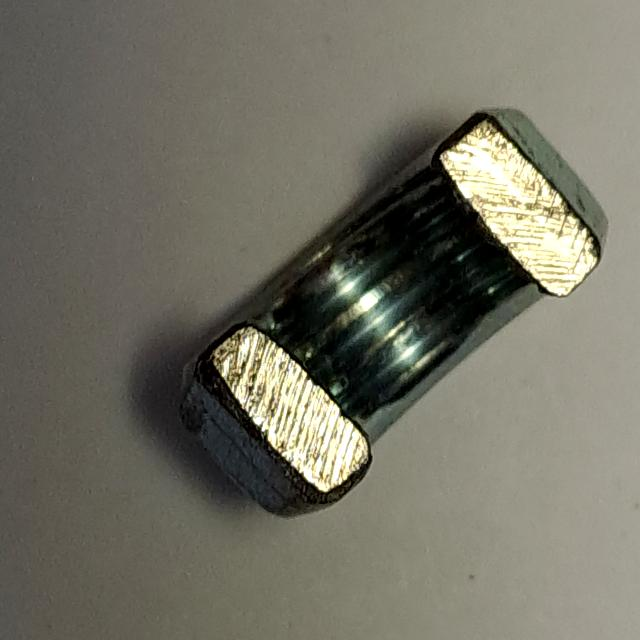Side-Fracture: (164, 91, 623, 536)
